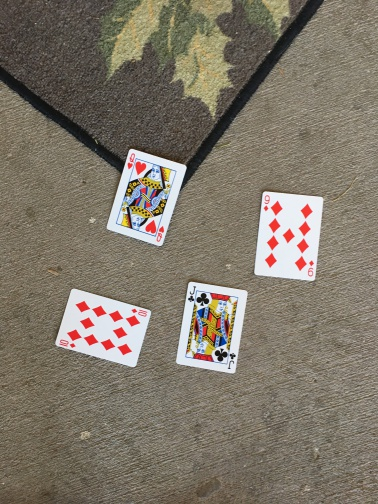jack: (173, 278, 250, 374)
nine: (254, 191, 323, 282)
queen: (105, 148, 186, 250)
ten: (53, 288, 153, 369)
